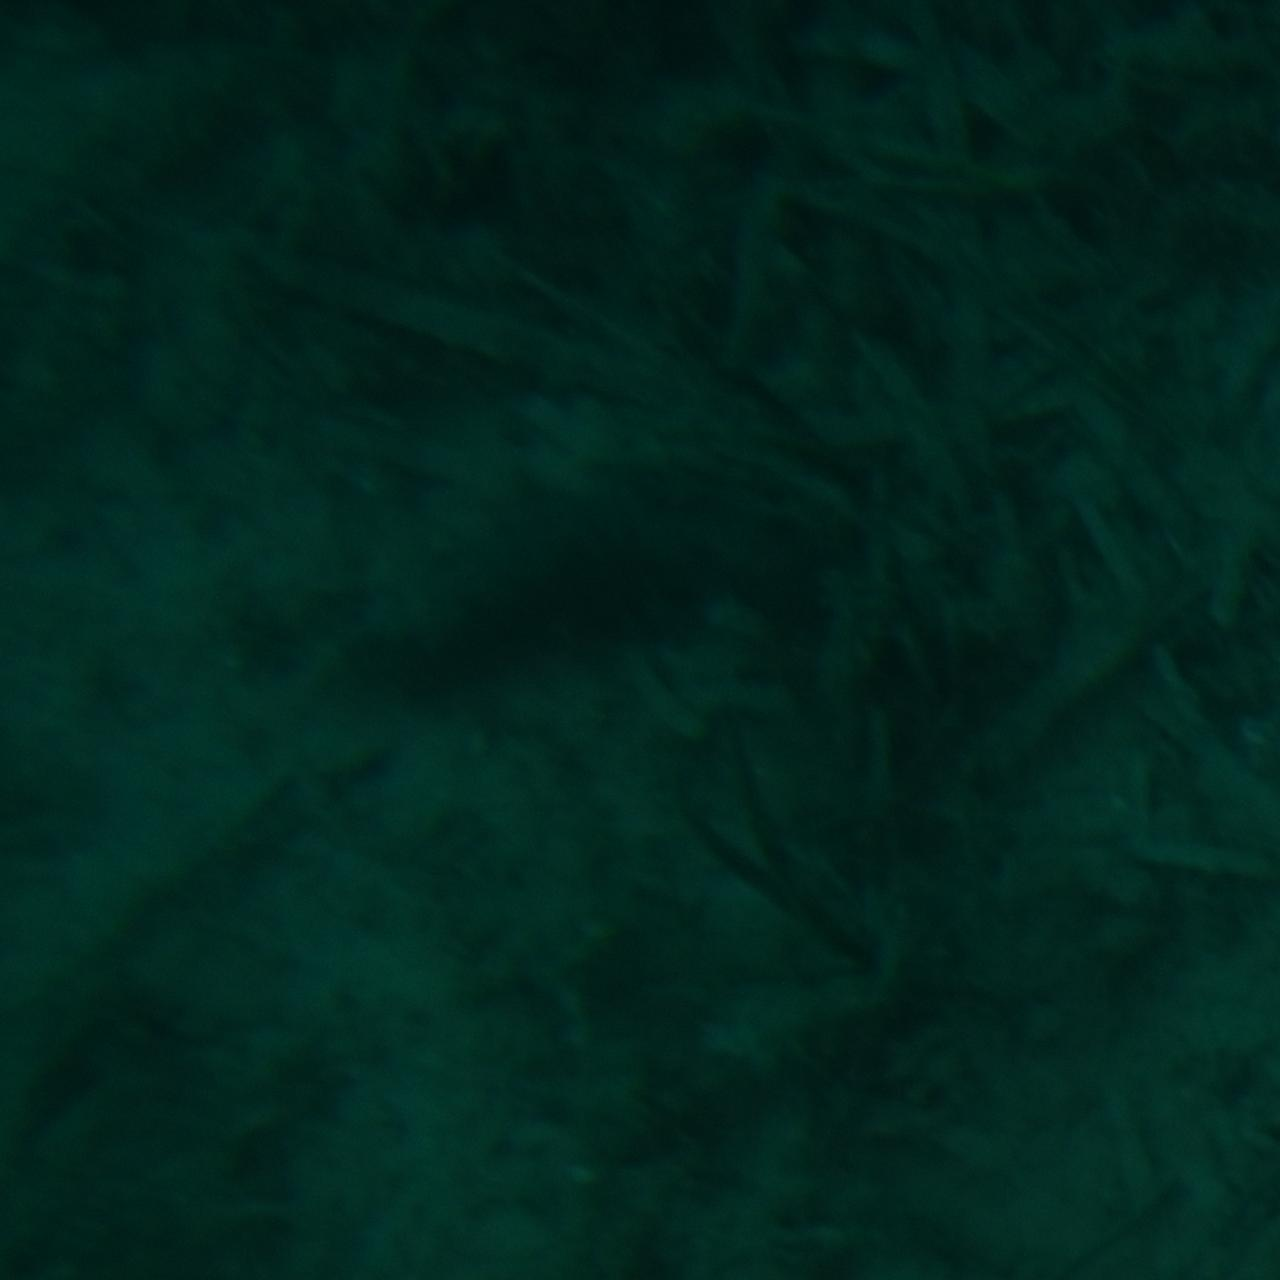Holothuria tubulosa: (314, 452, 966, 709)
